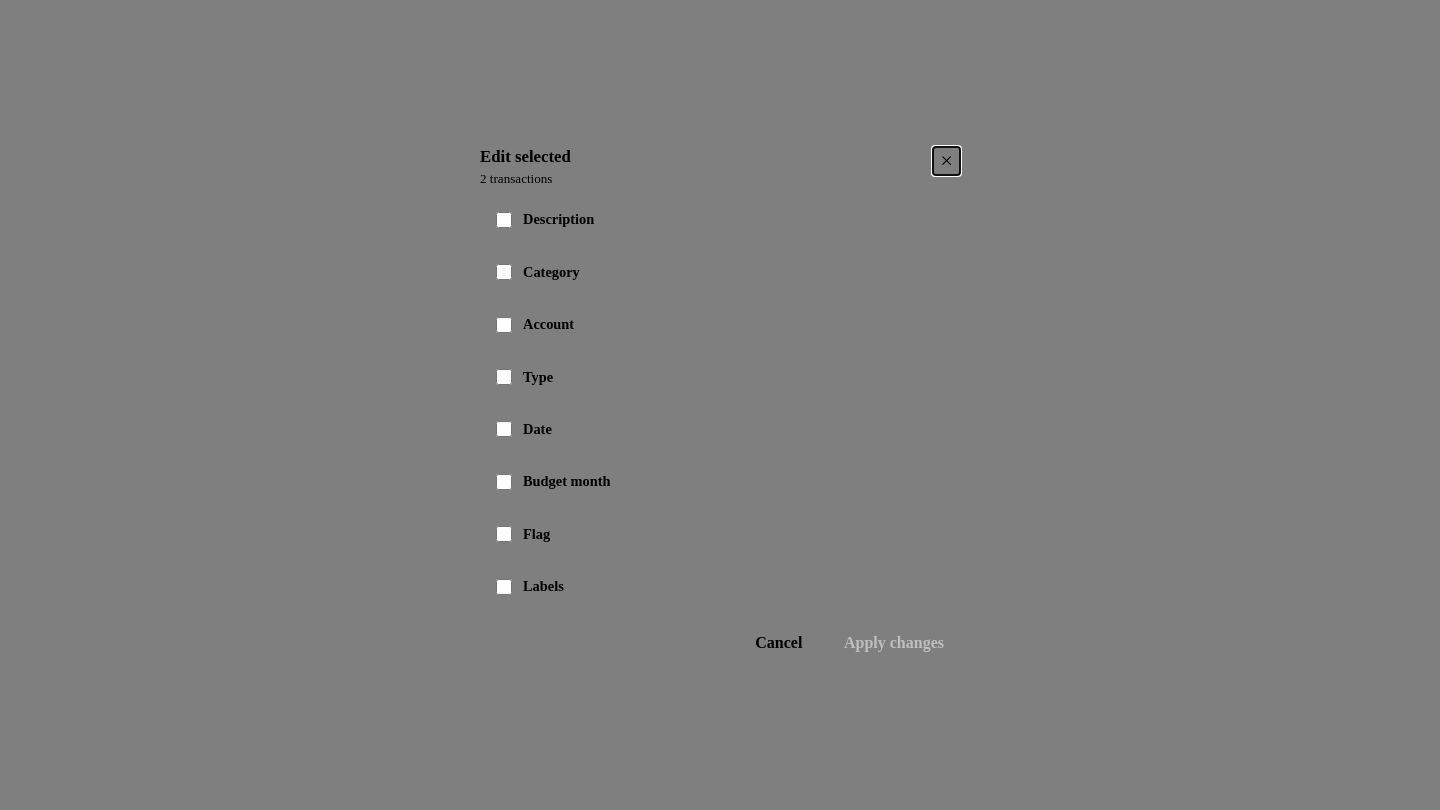
it: BulkEditSheet › offers the flag field even before any flag exists, so it stays discoverable
Click the checkbox labelled "Flag".
click(504, 534)  # box [496,526,512,542]
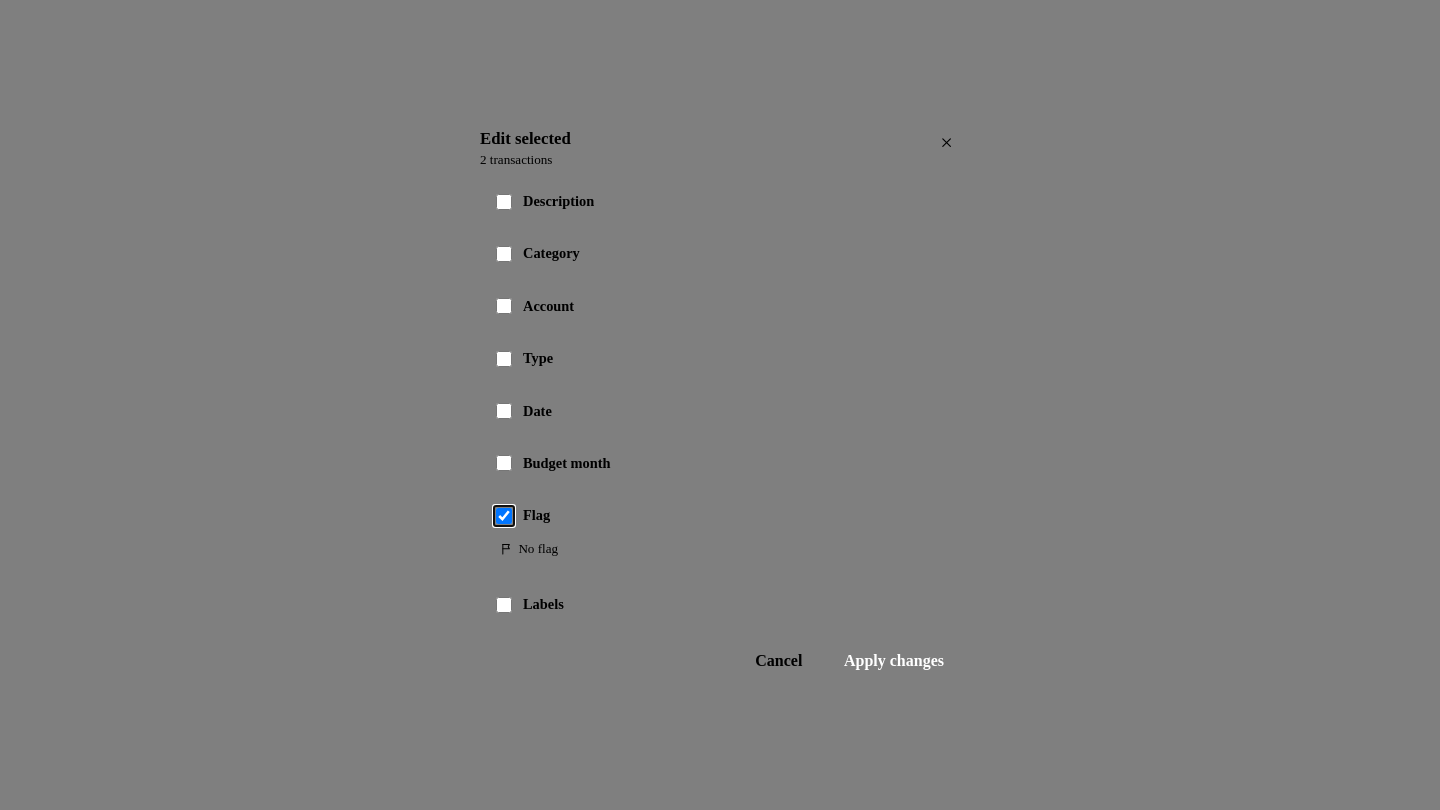
Expected: the button "No flag" is shown, [492,535,566,564]
